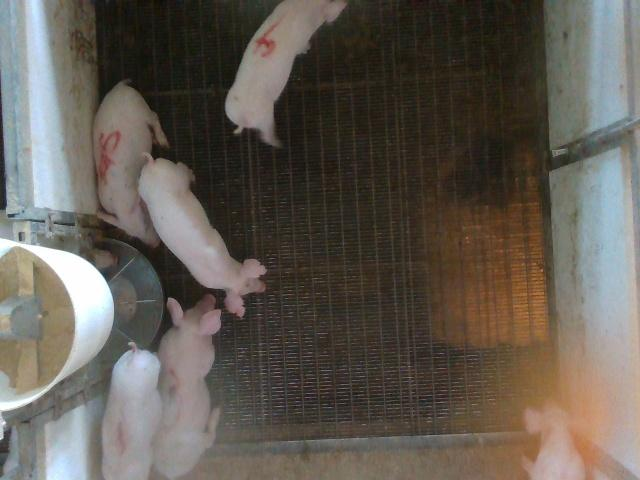pig-1: (102, 342, 162, 479)
pig-3: (152, 294, 221, 479)
pig-4: (226, 0, 346, 147)
pig-5: (94, 80, 169, 247)
